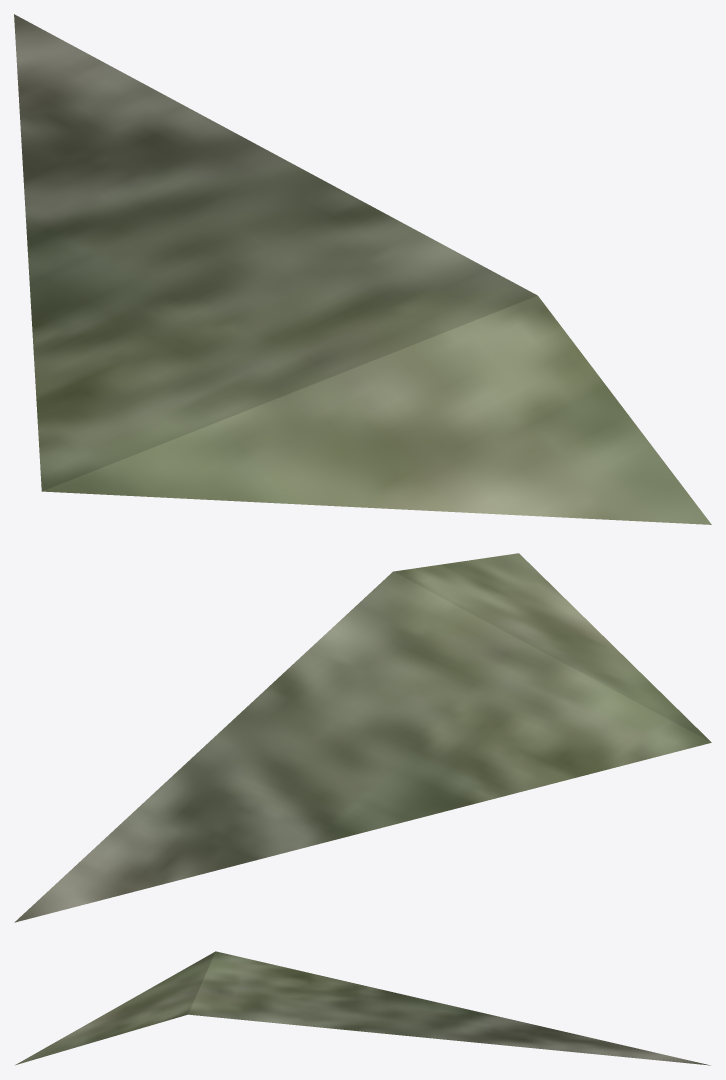
The picture shows the model from 3 angles, top to bottom: view 1: azimuth 30°, elevation 25°; view 2: azimuth 150°, elevation 25°; view 3: azimuth 270°, elevation 25°; orthographic projection. The views are drawn at different scales.
Bounding box in the file's own units: 0.4011 × 0.0834 × 1.04.
1 material, 1 textured.
